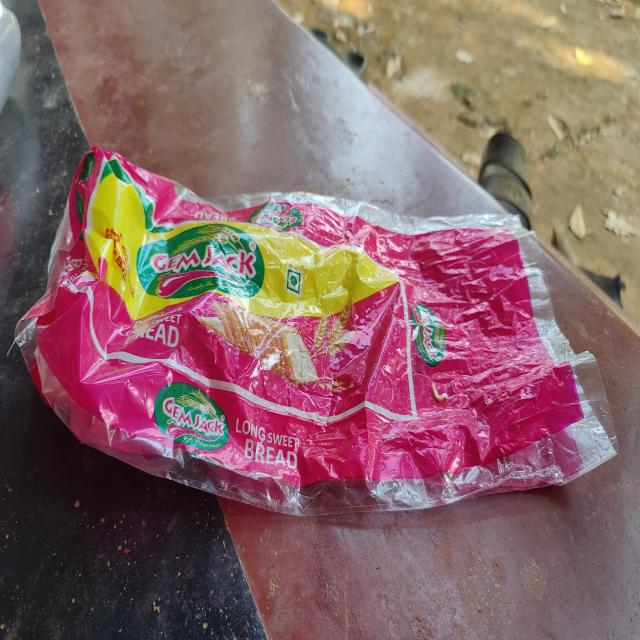plastic: (9, 141, 619, 508)
